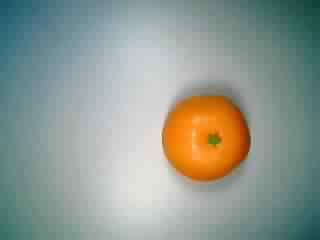orange: (152, 90, 249, 187)
